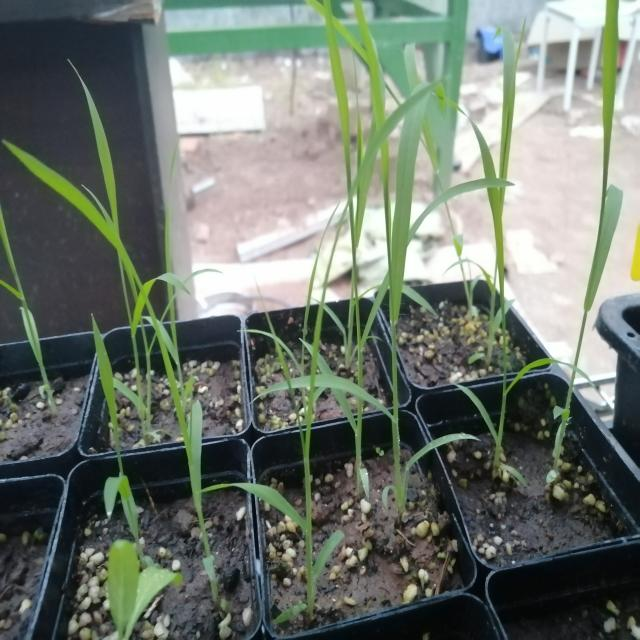crabgrass: (314, 41, 488, 510), (234, 151, 392, 605)
